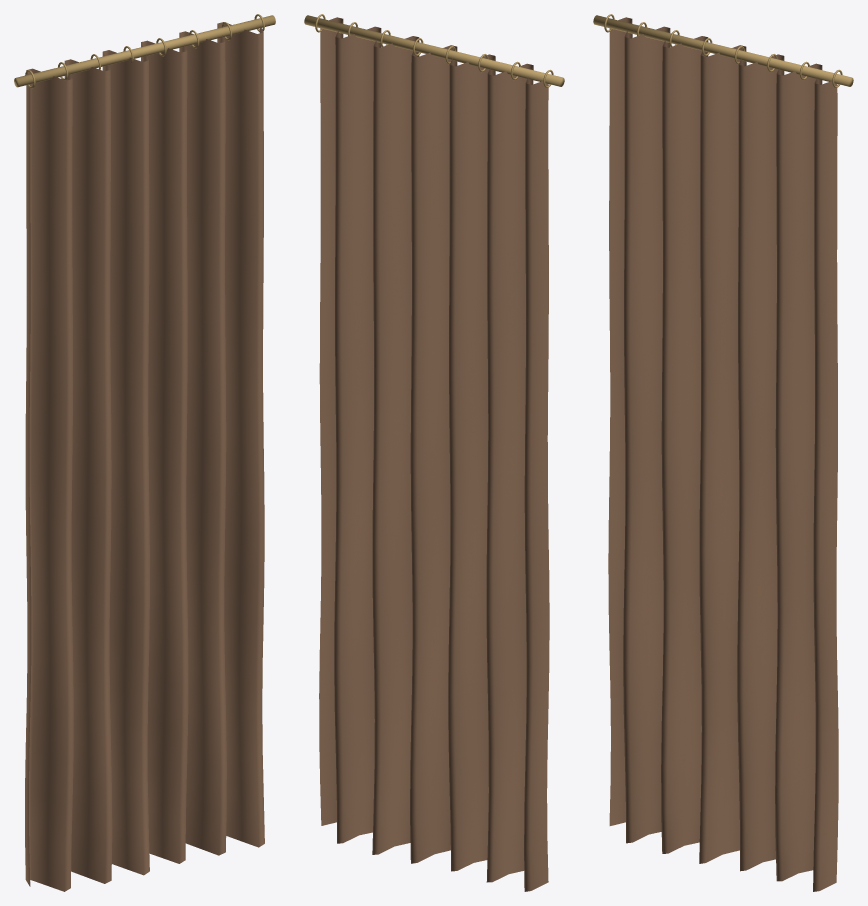
Rendered from traditional.curtain.gltf.
The picture shows the model from 3 angles, left to right: view 1: azimuth 30°, elevation 25°; view 2: azimuth 150°, elevation 25°; view 3: azimuth 330°, elevation 25°; orthographic projection.
Visible parts, largest first — view 1: traditional.curtain.linen-falls; view 2: traditional.curtain.linen-falls; view 3: traditional.curtain.linen-falls.
Part boxes in pixels (x1=…): traditional.curtain.linen-falls: x1=14, y1=14, x2=275, y2=891; traditional.curtain.linen-falls: x1=304, y1=14, x2=564, y2=891; traditional.curtain.linen-falls: x1=593, y1=14, x2=853, y2=891.
Size of the model in its own units: 0.728 by 2.22 by 0.1169.
Materials: 2 (1 with a texture image).
